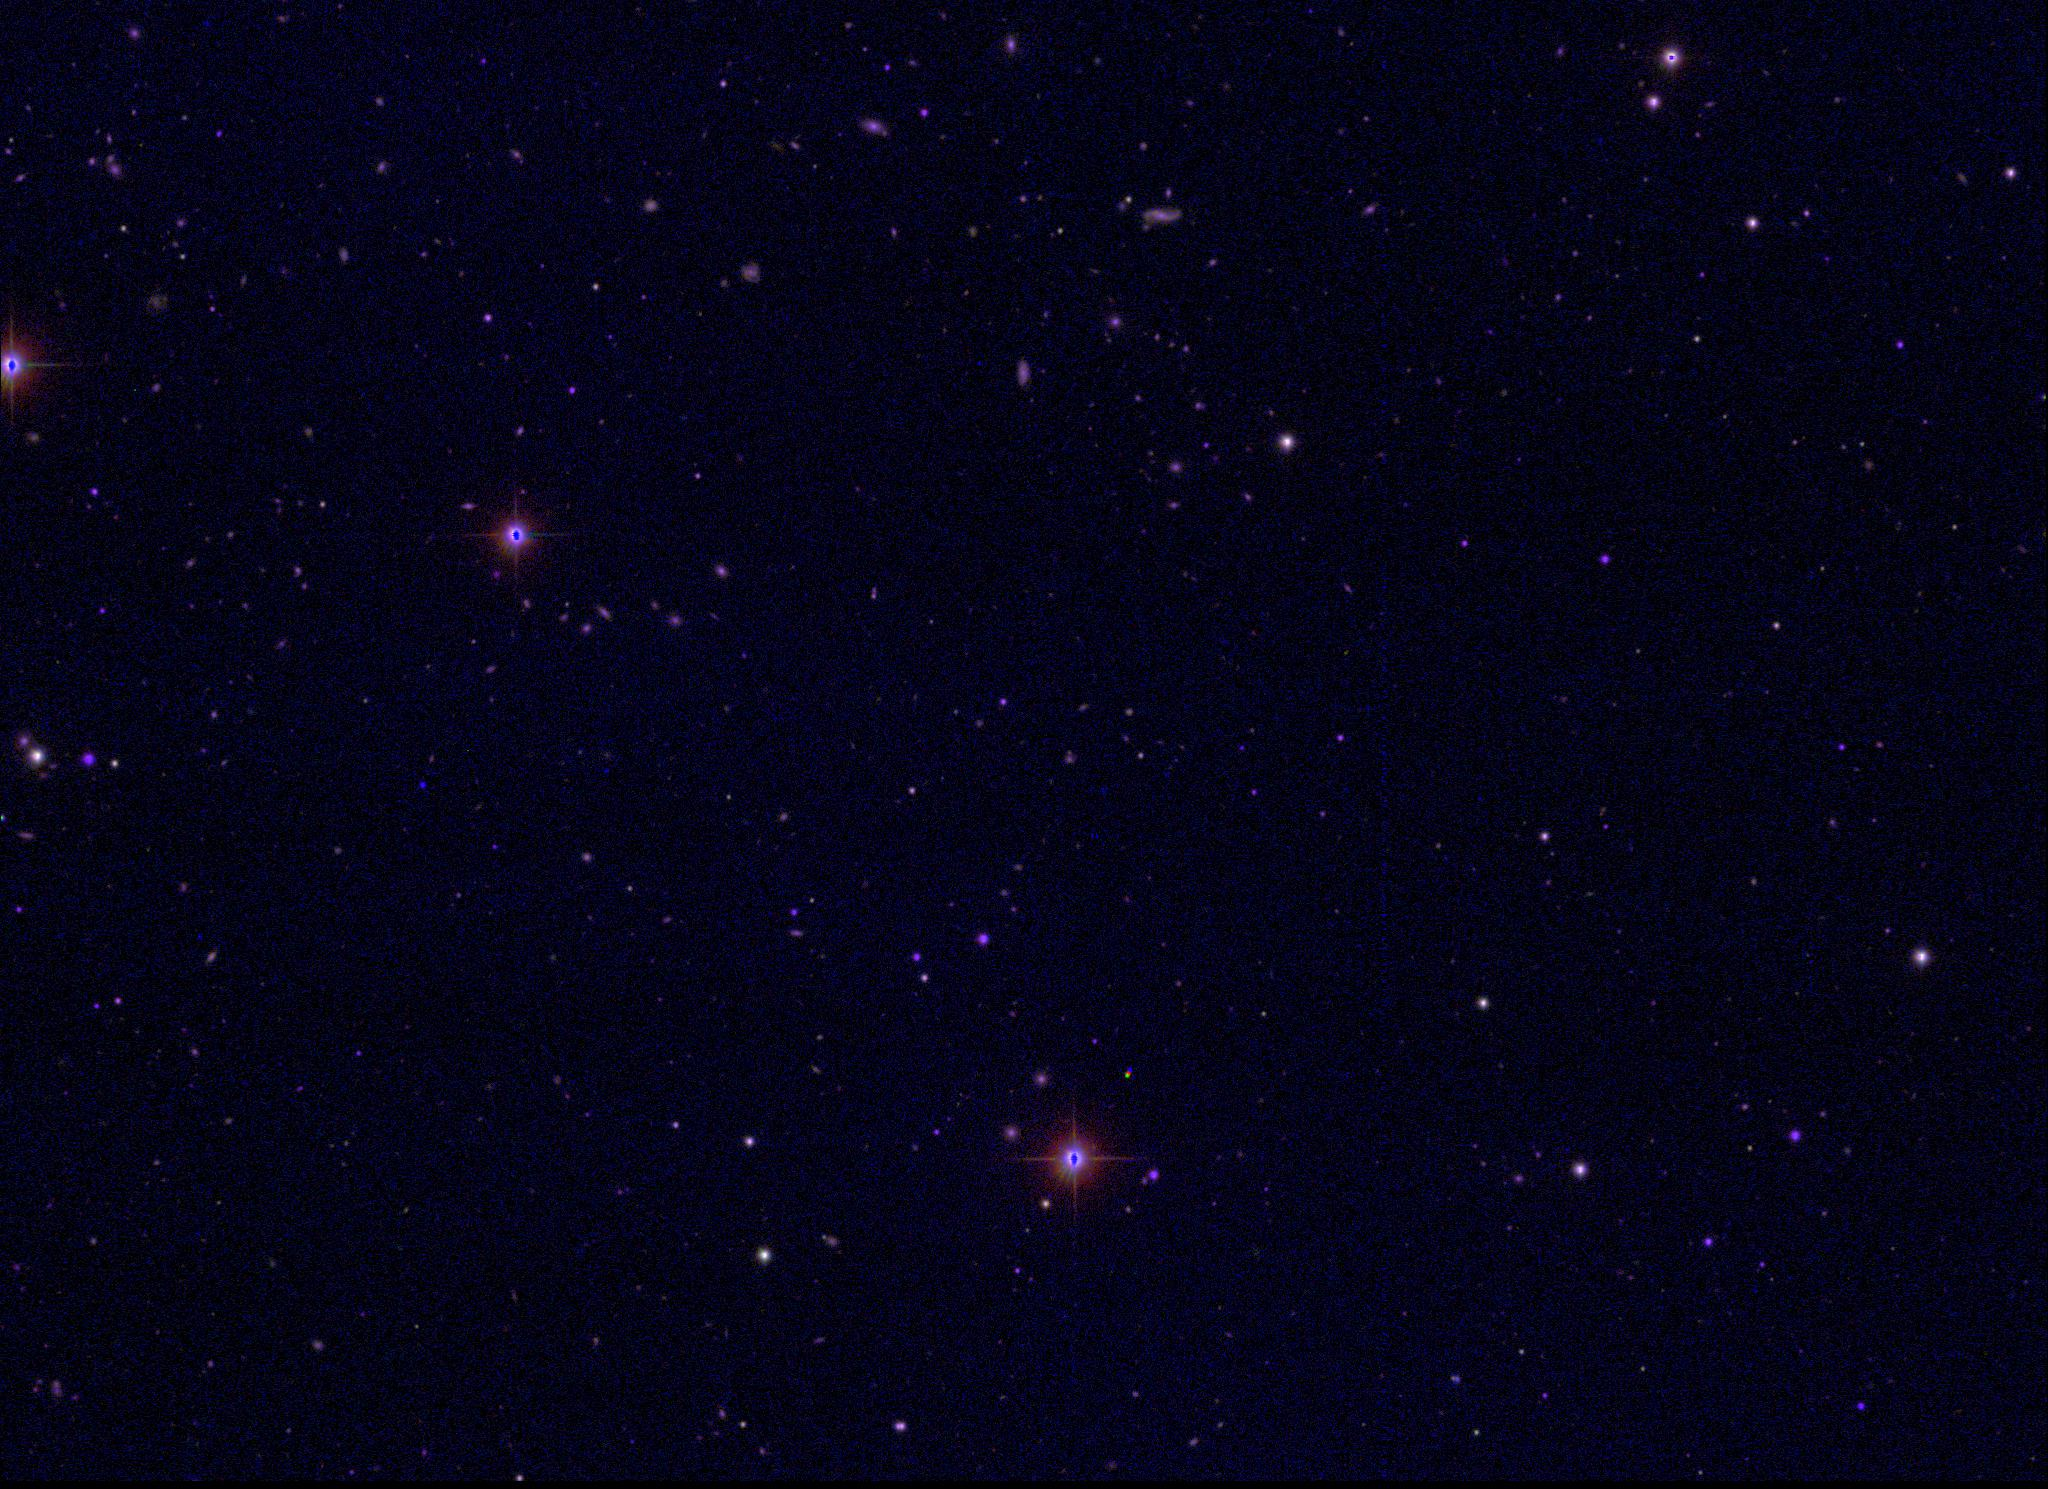L: (415, 775, 429, 789)
